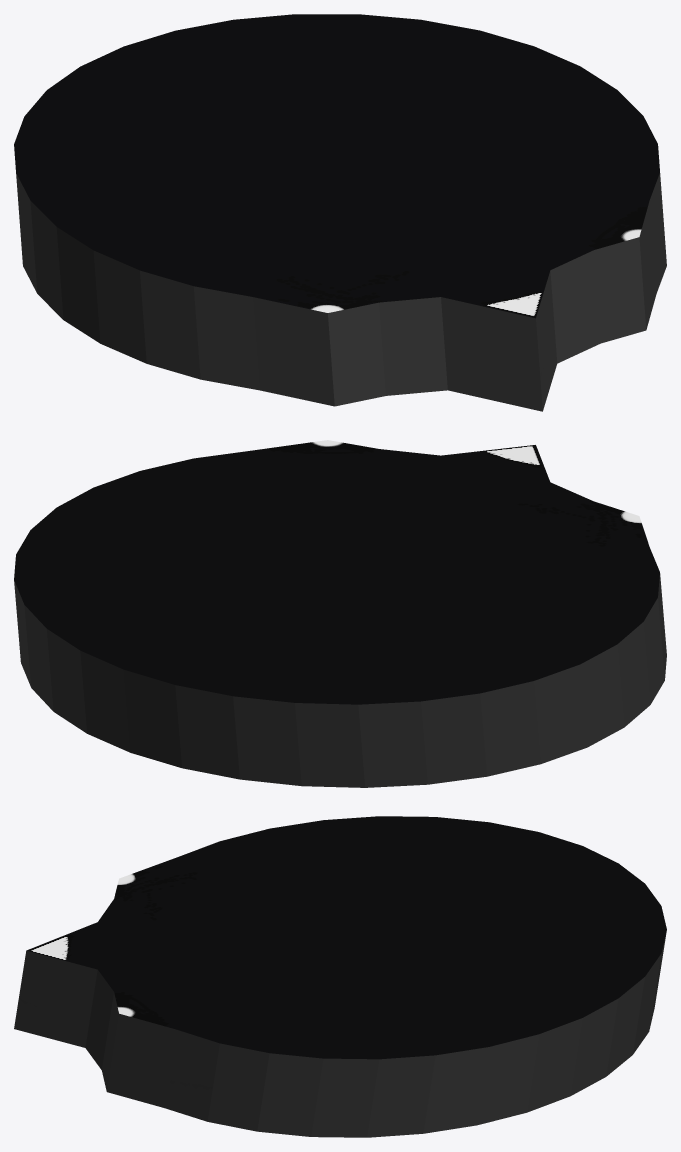
The model's file is knobtest.fbx.
The picture shows the model from 3 angles, top to bottom: view 1: azimuth 30°, elevation 25°; view 2: azimuth 150°, elevation 25°; view 3: azimuth 270°, elevation 25°; orthographic projection. The views are drawn at different scales.
Visible parts, largest first — view 1: RoundKnob-col; view 2: RoundKnob-col; view 3: RoundKnob-col.
Part boxes in pixels (x1,y1,x2,y2): RoundKnob-col: (14,14,666,411); RoundKnob-col: (14,440,666,787); RoundKnob-col: (14,816,666,1137).
Bounding box in the file's own units: 200 × 38.18 × 227.
